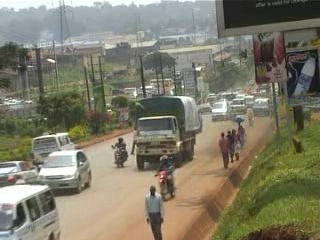Car: (35, 148, 94, 195), (0, 156, 41, 195), (210, 99, 234, 123), (231, 96, 248, 115), (198, 101, 214, 114), (246, 94, 256, 108)
Motorcycle: (155, 170, 180, 202), (108, 143, 127, 170)
